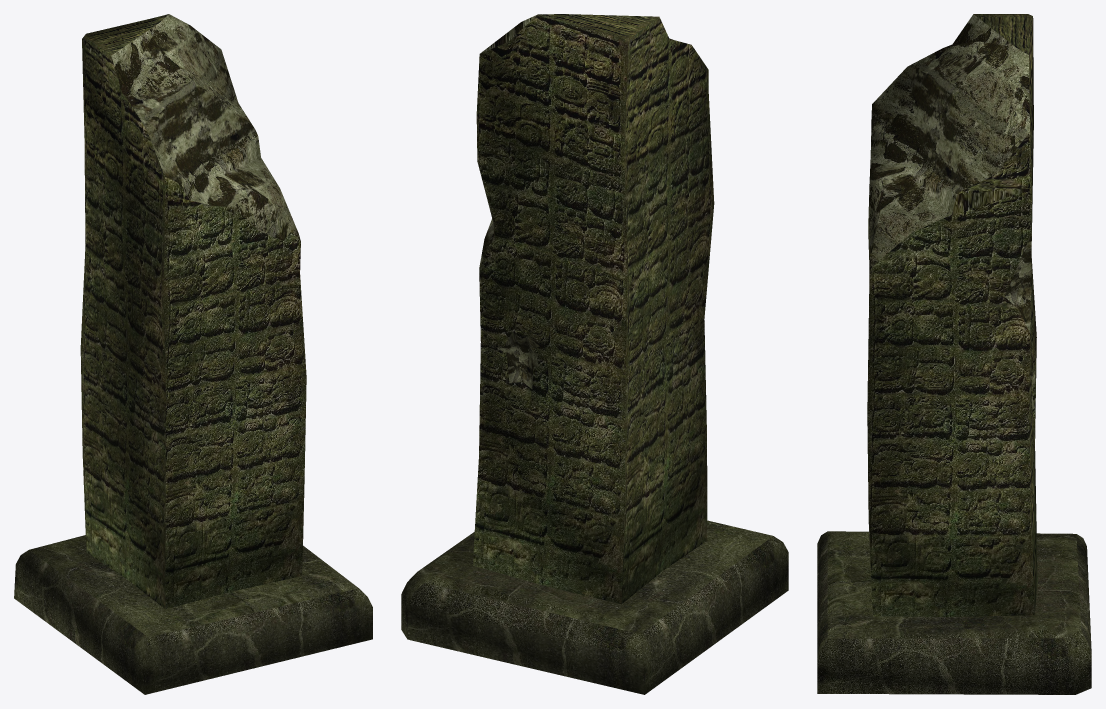
Rendered from ADDON_DUNGEON_PILLAR_01.glb.
3 views of the same model, side by side, from view 1: azimuth 30°, elevation 25°; view 2: azimuth 150°, elevation 25°; view 3: azimuth 270°, elevation 25° (orthographic). The views are drawn at different scales.
Parts seen in each view (by area): view 1: Mesh; view 2: Mesh; view 3: Mesh.
Boxes of the visible parts, box(x1,y1,x2,y2) form: Mesh: box(14, 14, 372, 694); Mesh: box(401, 14, 788, 694); Mesh: box(817, 14, 1091, 694).
Bounding box in the file's own units: 1.21 × 2.88 × 1.22.
Materials: 3 (3 with a texture image).
